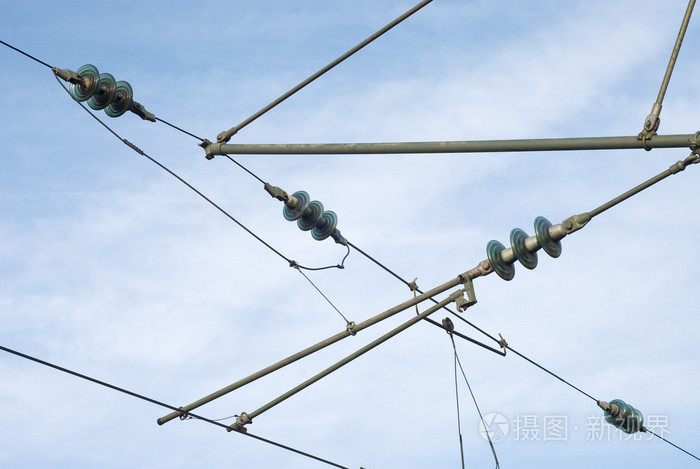insulator: (487, 216, 562, 277), (72, 61, 133, 117), (280, 191, 339, 240), (603, 400, 644, 434)
